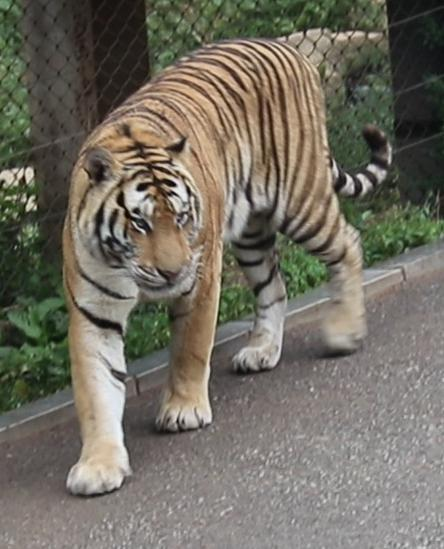tiger: (63, 40, 390, 494)
